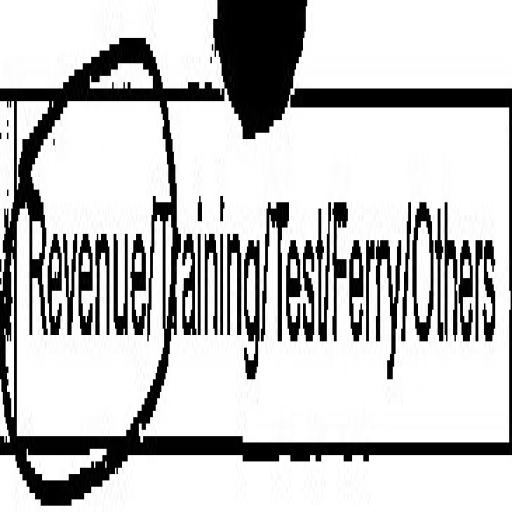check: (10, 0, 153, 512)
